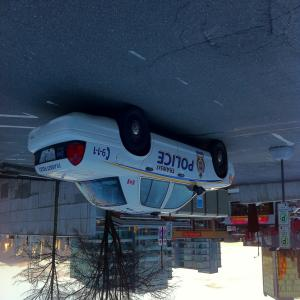Vehicle-registration-plate: (46, 150, 54, 160)
